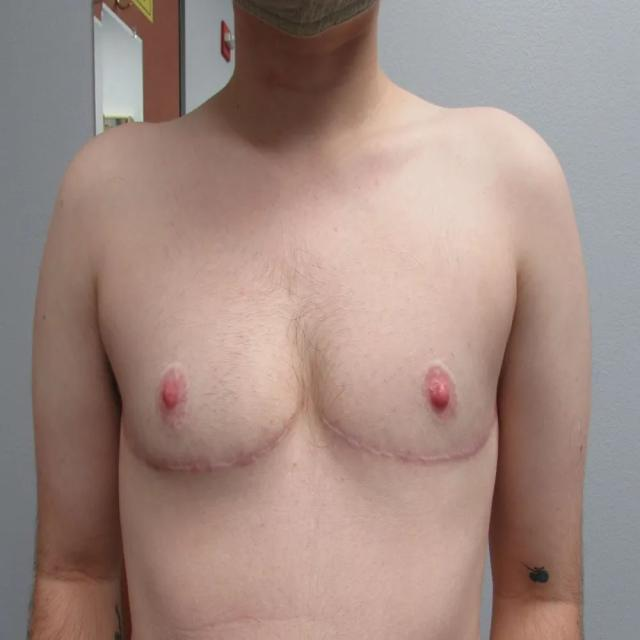Seno herido: (97, 204, 308, 503), (313, 204, 517, 503)
